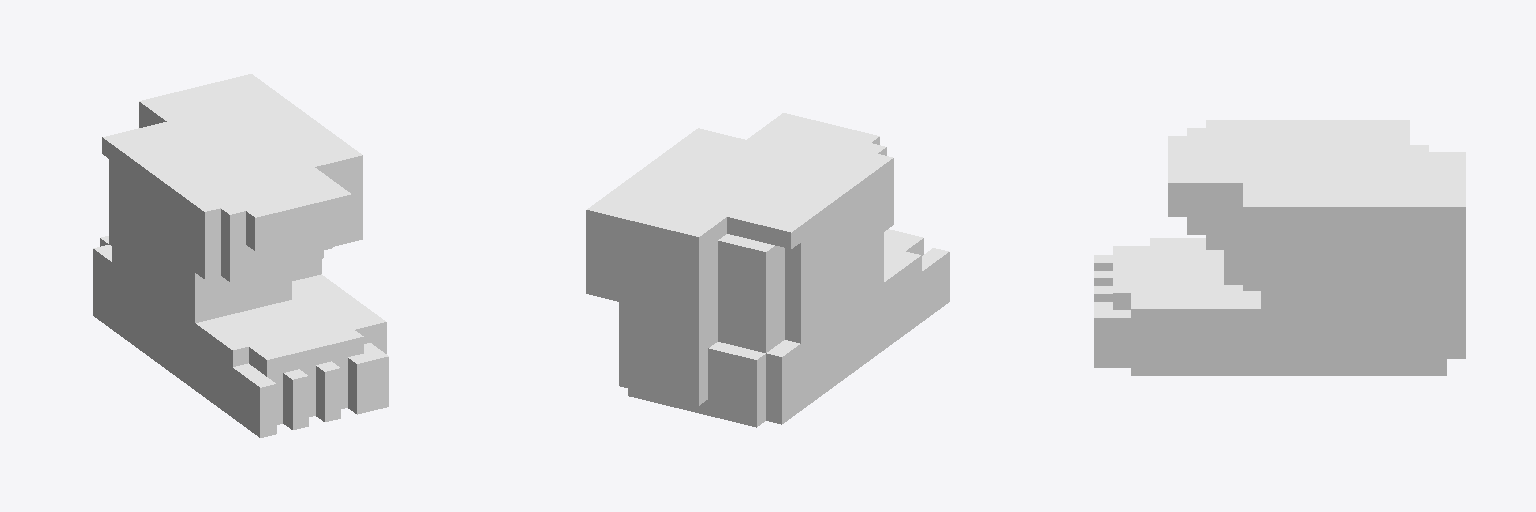
The model's file is DragonLegRight.obj.
3 renders of one model, left to right at view 1: azimuth 30°, elevation 25°; view 2: azimuth 150°, elevation 25°; view 3: azimuth 270°, elevation 25°, orthographic.
Parts seen in each view (by area): view 1: DragonLegRight; view 2: DragonLegRight; view 3: DragonLegRight.
Part boxes in pixels (left/top/right/bottom): DragonLegRight: left=93, top=74, right=388, bottom=437; DragonLegRight: left=586, top=113, right=949, bottom=427; DragonLegRight: left=1094, top=120, right=1465, bottom=375.
Bounding box in the file's own units: 11 × 11 × 20.